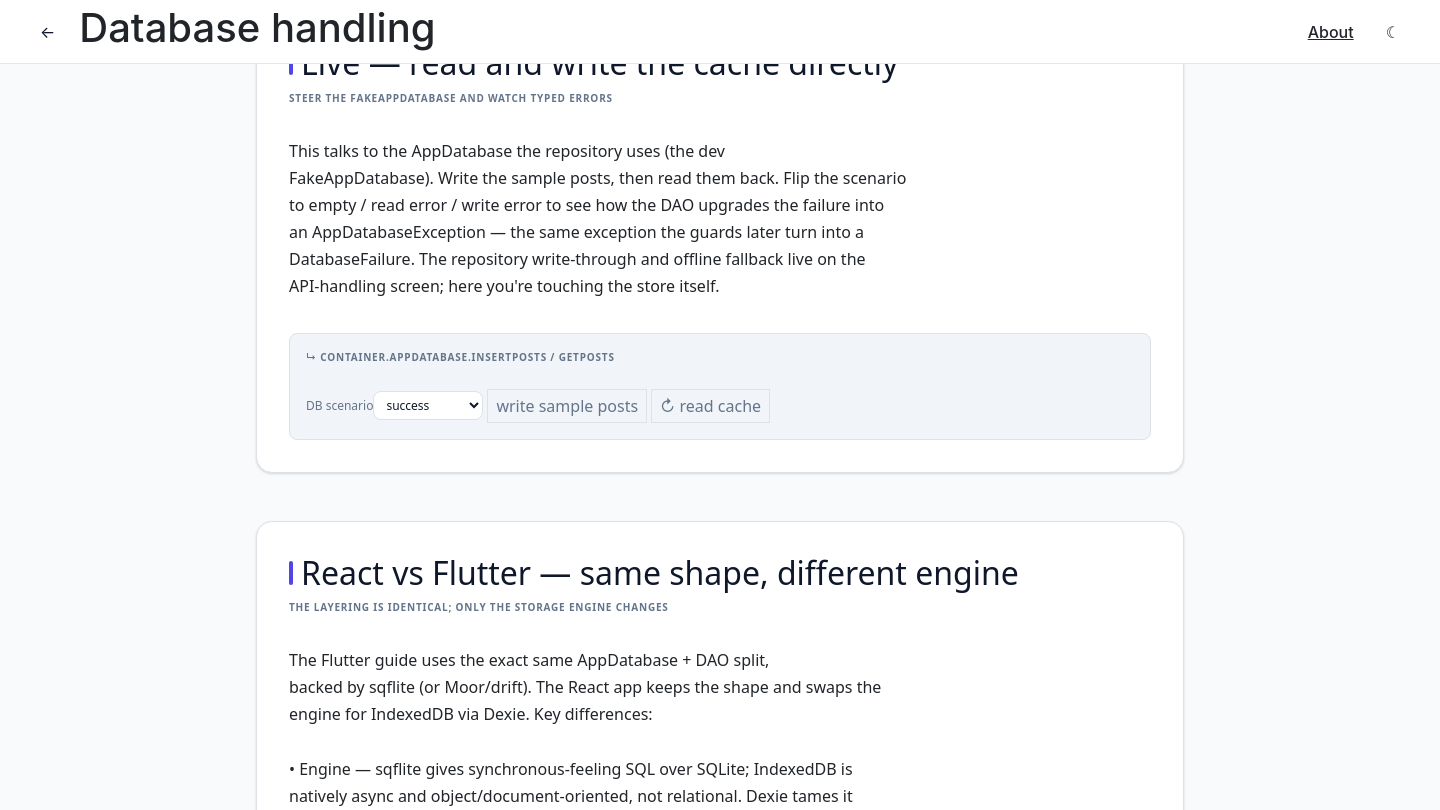
Database handling screen › shows a typed AppDatabaseException on a read error
The image size is (1440, 810).
(page scrolled)
// Flip the DB scenario to read-error, then read.
Select "read error" in the dropdown labelled "DB scenario" at [428, 406], box [373, 391, 483, 420]
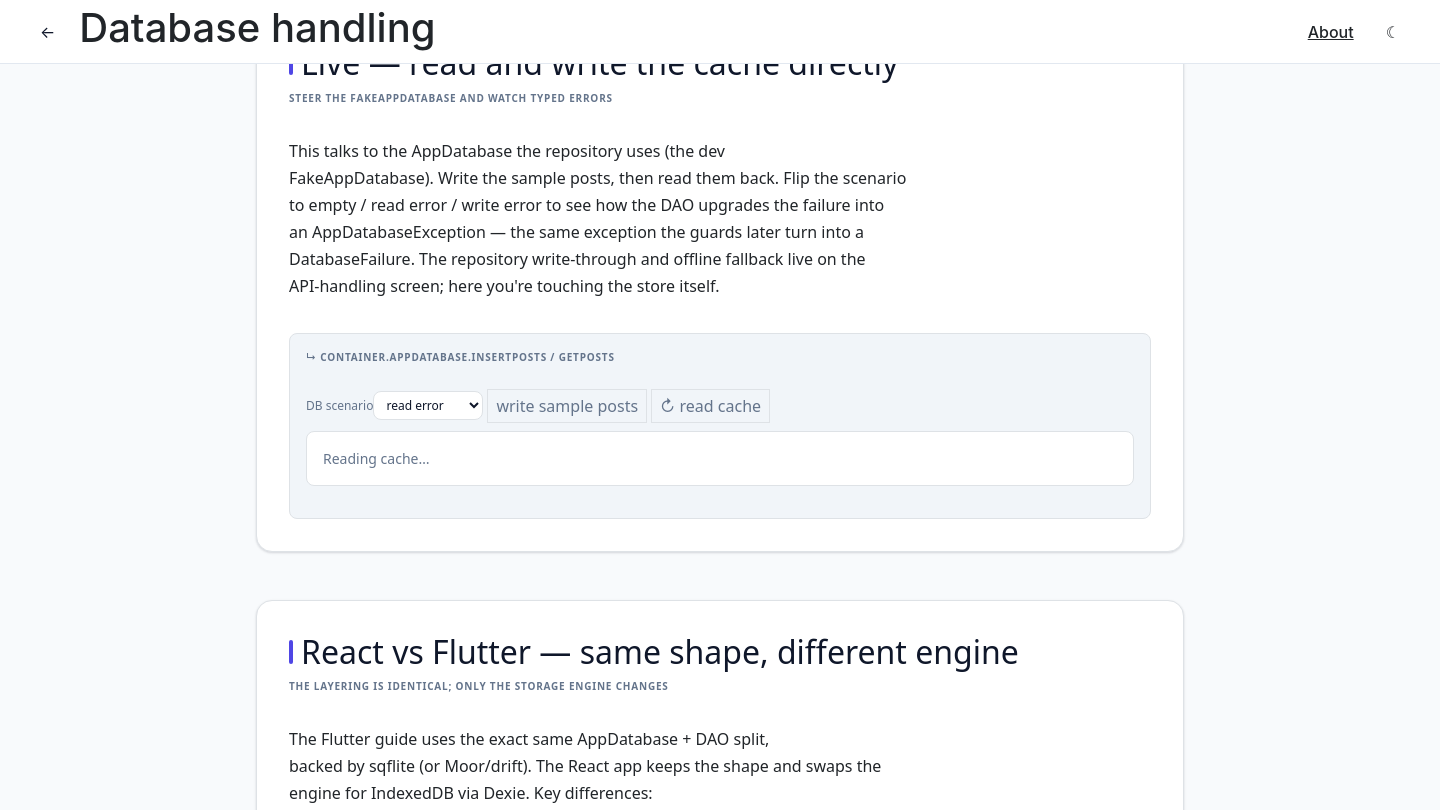
Click the button "↻ read cache" at [711, 406], box [651, 389, 770, 423]
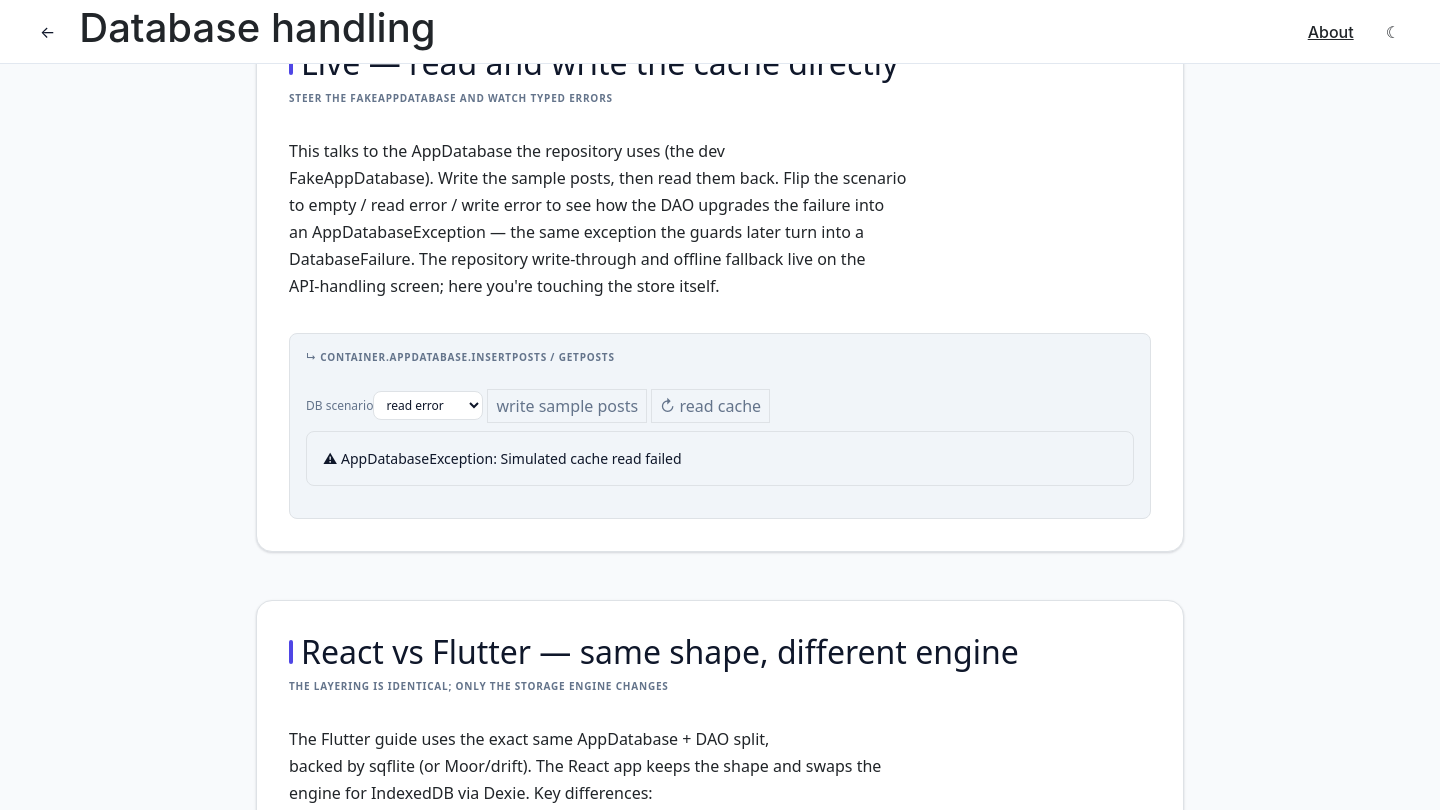
expect the text "⚠ AppDatabaseException: Simulated cache read failed" is shown: met, box [306, 431, 1134, 486]
expect the text with test id "cache-error" shows "AppDatabaseException": met, box [323, 449, 500, 468]
